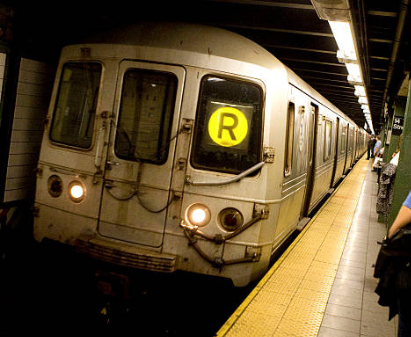train: (34, 33, 279, 240)
